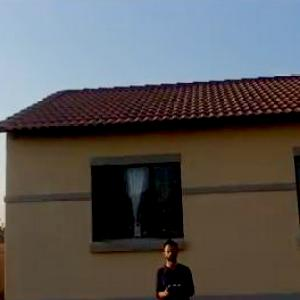follow: (150, 225, 197, 299)
